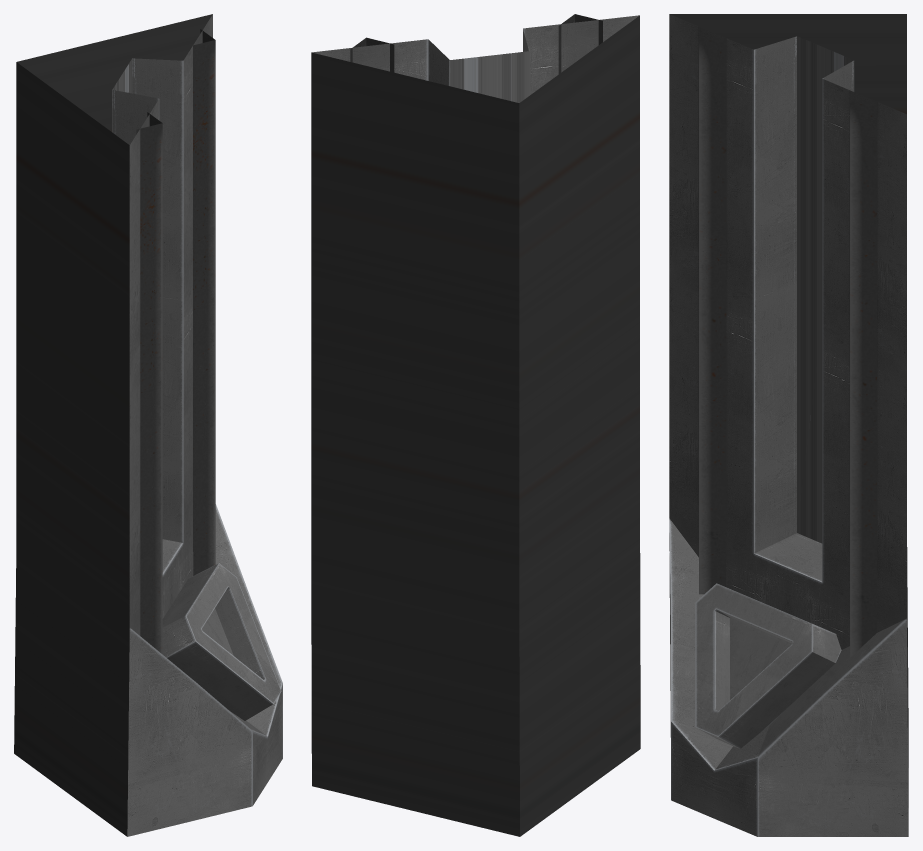
File: Atype_Frame_end_1.fbx
The picture shows the model from 3 angles, left to right: view 1: azimuth 30°, elevation 25°; view 2: azimuth 150°, elevation 25°; view 3: azimuth 270°, elevation 25°; orthographic projection. The views are drawn at different scales.
Parts seen in each view (by area): view 1: AFrame_end_004; view 2: AFrame_end_004, cain; view 3: AFrame_end_004, cain.
Part boxes in pixels (<box>): AFrame_end_004: <box>14,14,282,836</box>; AFrame_end_004: <box>311,14,640,836</box>; cain: <box>449,51,530,102</box>; AFrame_end_004: <box>669,14,908,836</box>; cain: <box>796,36,854,543</box>.
Bounding box in the file's own units: 30 × 100 × 30.
1 material, 1 textured.
